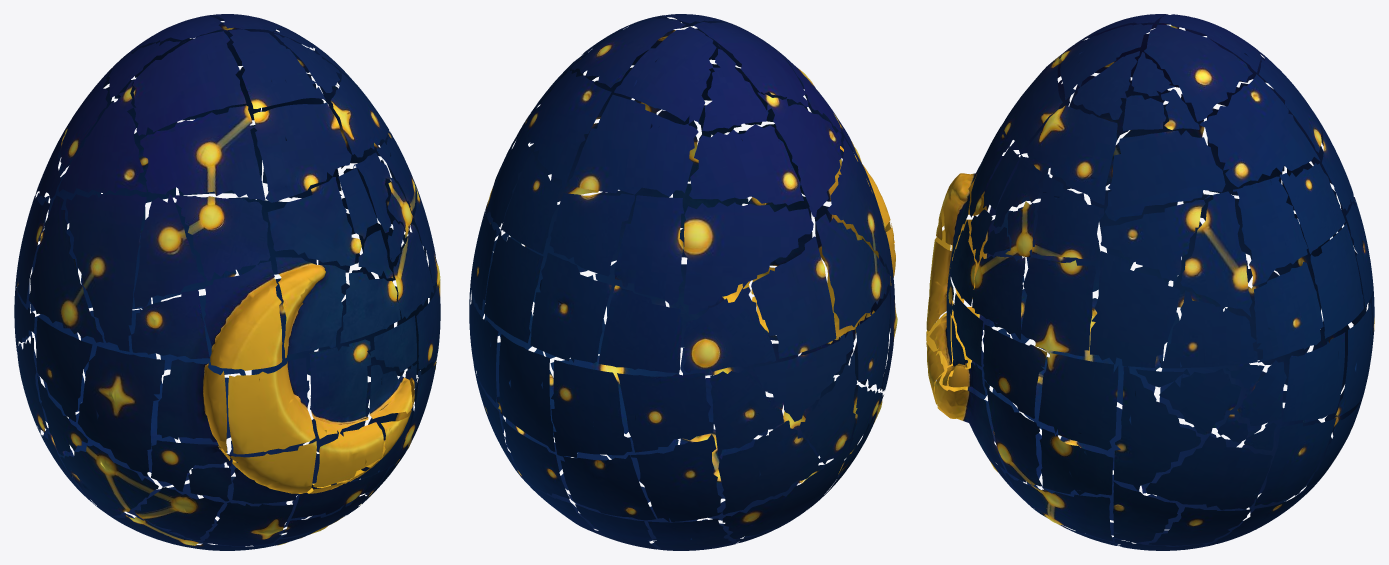
The model's file is oeuf.glb.
3 views of the same model, side by side, from view 1: azimuth 30°, elevation 25°; view 2: azimuth 150°, elevation 25°; view 3: azimuth 270°, elevation 25° (orthographic).
Parts seen in each view (by area): view 1: mesh_node; view 2: mesh_node; view 3: mesh_node.
Part boxes in pixels (box(x1,y1,x2,y2)): mesh_node: box(14, 14, 440, 550); mesh_node: box(469, 14, 897, 550); mesh_node: box(926, 14, 1374, 550).
Size of the model in its own units: 1.45 by 1.9 by 1.53.
Materials: 1 (1 with a texture image).
